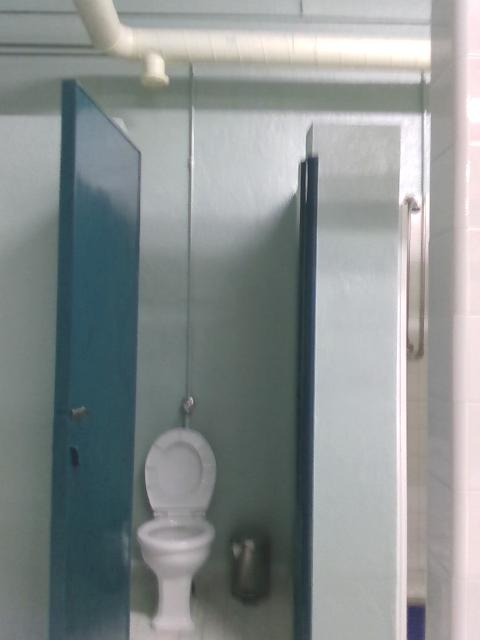open_door: (108, 115, 315, 639)
